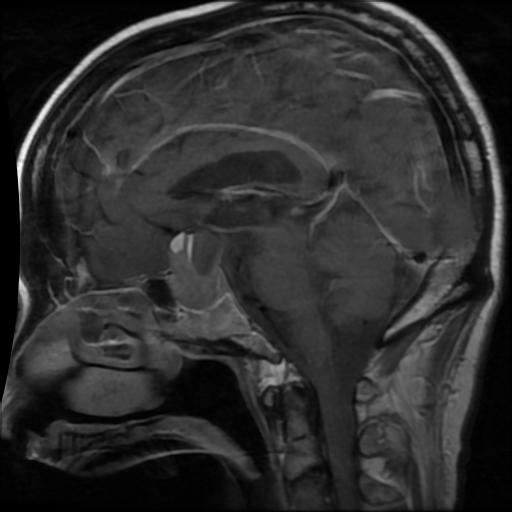Pituirity_tumour: (169, 228, 225, 310)
